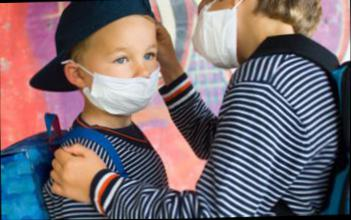WRONG: (86, 32, 162, 120), (190, 1, 251, 71)
